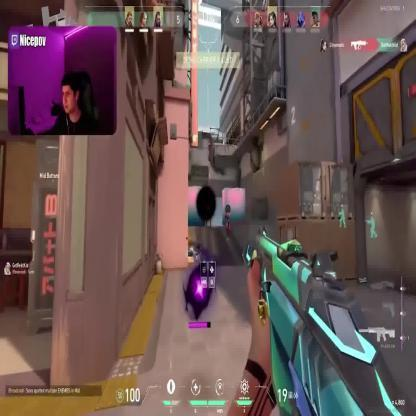enemy: (224, 204, 232, 234)
enemy_head: (226, 205, 231, 214)
